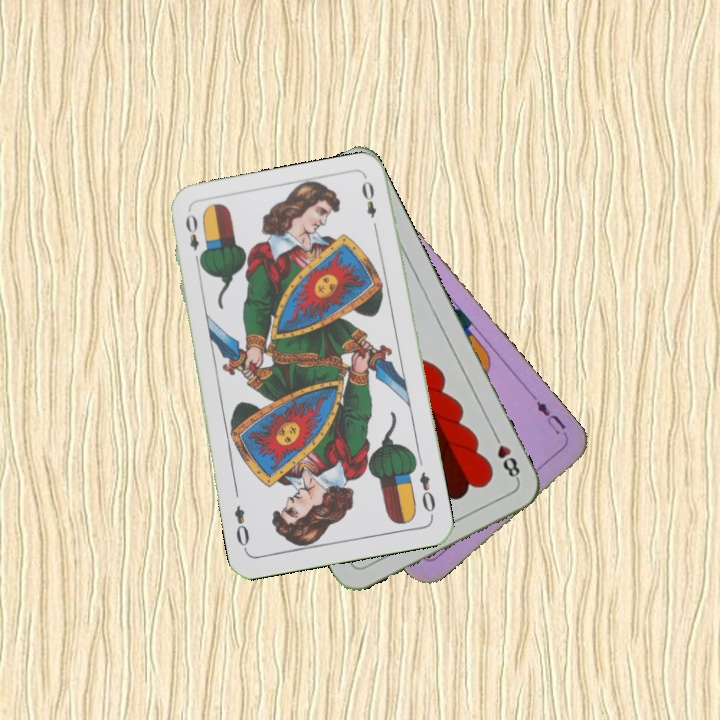EO: (181, 210, 206, 268), (415, 468, 438, 520)
EU: (529, 393, 571, 443)
H8: (489, 428, 523, 484)
